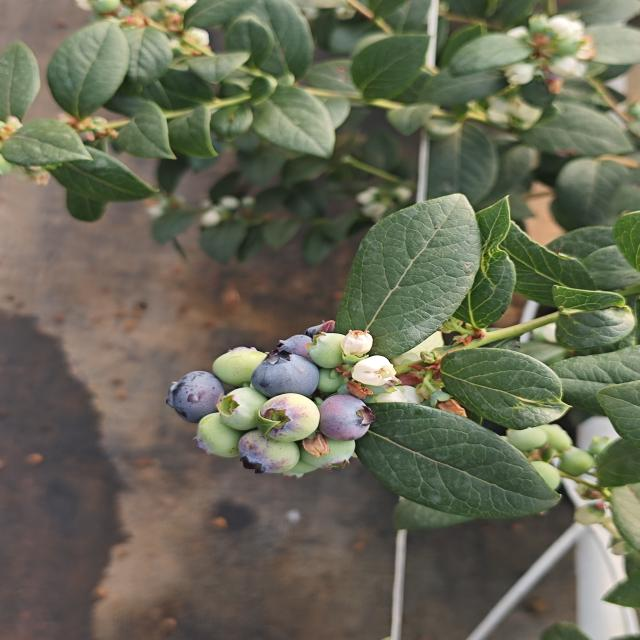ripe: (156, 367, 230, 422), (245, 350, 329, 392), (308, 390, 370, 432), (267, 330, 319, 360)
